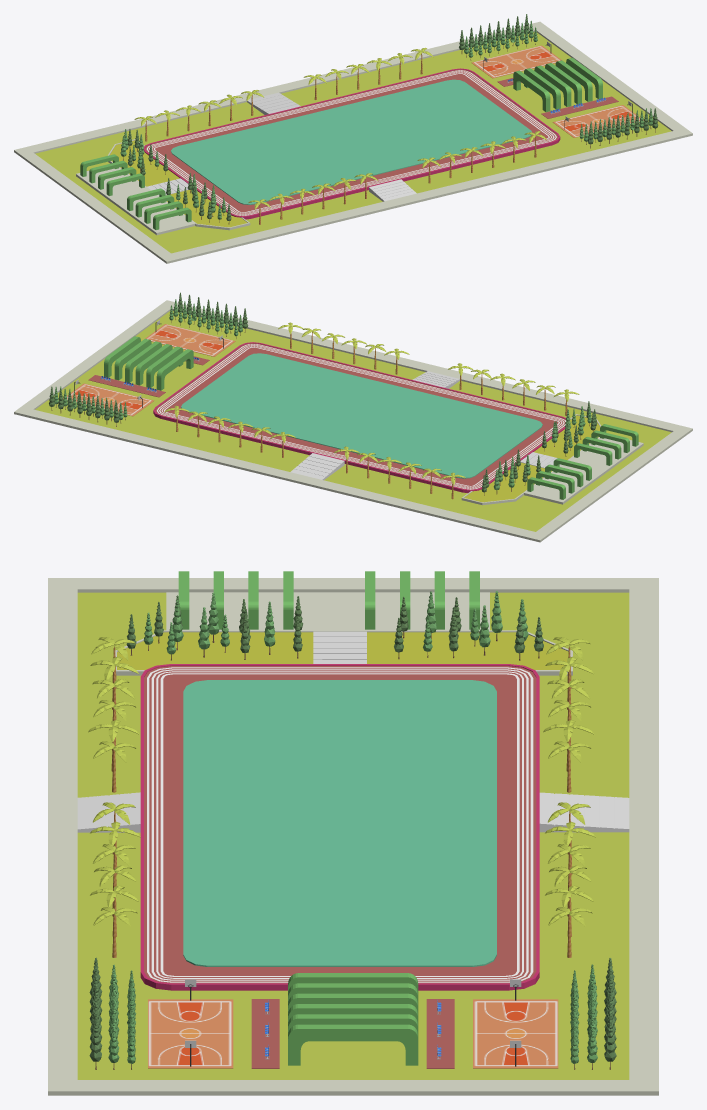
The model's file is D4_RUNNING_TRACK.fbx.
3 renders of one model, top to bottom at view 1: azimuth 30°, elevation 25°; view 2: azimuth 150°, elevation 25°; view 3: azimuth 270°, elevation 25°, orthographic. The views are drawn at different scales.
Parts seen in each view (by area): view 1: Plane.008, Plane.007, Plane.006, Cube.291, Cube.082, Plane.010, Plane.011, Cube.084, Cube.083, Cylinder.063, Cylinder.061, Cylinder.058 (+3 smaller); view 2: Plane.008, Plane.007, Plane.006, Cube.291, Cube.082, Plane.010, Plane.011, Cube.084, Cube.083, Cube.086, Cylinder.062, Cylinder.058 (+3 smaller); view 3: Plane.008, Plane.007, Plane.006, Cube.291, Plane.010, Cube.082, Plane.011, Cube.086, Cylinder.062, Cylinder.063, Cylinder.061, Cylinder.058 (+4 smaller).
Boxes of the visible parts, left/top/right/bottom form: Plane.008: left=14, top=21, right=692, bottom=263; Plane.007: left=171, top=79, right=531, bottom=204; Plane.006: left=143, top=68, right=560, bottom=219; Cube.291: left=459, top=14, right=658, bottom=148; Cube.082: left=513, top=57, right=602, bottom=112; Plane.010: left=108, top=139, right=250, bottom=230; Plane.011: left=76, top=167, right=195, bottom=235; Cube.084: left=127, top=188, right=191, bottom=229; Cube.083: left=80, top=154, right=144, bottom=195; Cylinder.063: left=303, top=47, right=433, bottom=99; Cylinder.061: left=417, top=131, right=546, bottom=183; Cylinder.058: left=248, top=173, right=377, bottom=224; Plane.008: left=14, top=300, right=692, bottom=542; Plane.007: left=181, top=353, right=542, bottom=478; Plane.006: left=153, top=342, right=566, bottom=492; Cube.291: left=49, top=292, right=248, bottom=426; Cube.082: left=104, top=336, right=193, bottom=390; Plane.010: left=461, top=414, right=600, bottom=505; Plane.011: left=523, top=437, right=643, bottom=504; Cube.084: left=574, top=424, right=638, bottom=465; Cube.083: left=527, top=458, right=591, bottom=499; Cube.086: left=290, top=453, right=344, bottom=480; Cylinder.062: left=334, top=446, right=465, bottom=499; Cylinder.058: left=448, top=363, right=579, bottom=415; Plane.008: left=48, top=578, right=658, bottom=1095; Plane.007: left=183, top=680, right=496, bottom=966; Plane.006: left=140, top=664, right=539, bottom=990; Cube.291: left=89, top=957, right=616, bottom=1069; Plane.010: left=115, top=630, right=572, bottom=675; Cube.082: left=288, top=973, right=418, bottom=1065; Plane.011: left=166, top=592, right=489, bottom=630; Cube.086: left=539, top=792, right=629, bottom=832; Cylinder.062: left=543, top=637, right=593, bottom=792; Cylinder.063: left=545, top=802, right=595, bottom=957; Cylinder.061: left=90, top=802, right=140, bottom=957; Cylinder.058: left=88, top=637, right=138, bottom=792.
Bounding box in the file's own units: 21443 × 1144 × 10784.
9 materials, 4 textured.
